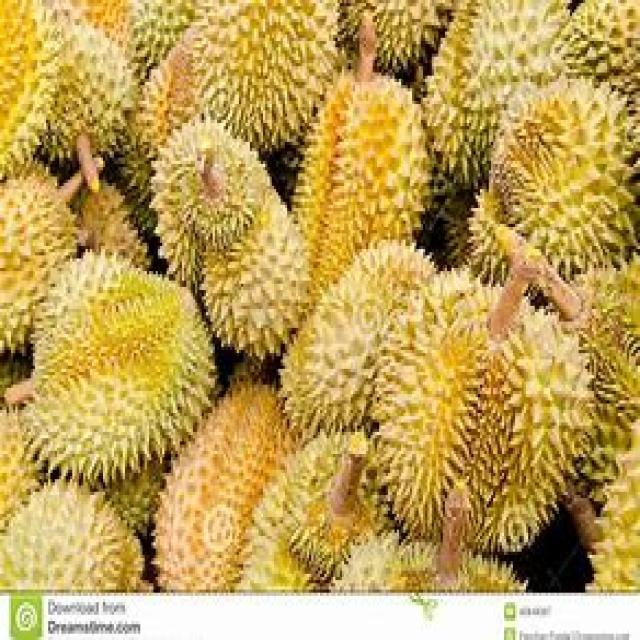mature: (294, 74, 429, 303), (156, 387, 295, 589)
